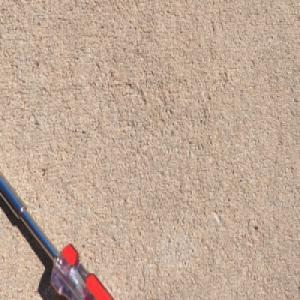Screwdriver: (0, 163, 117, 300)
